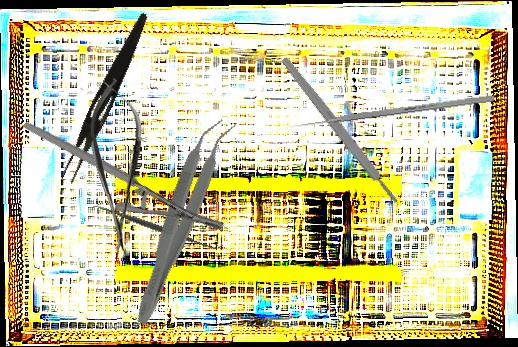Dressing Forceps: (59, 8, 152, 187)
Micro Scissor: (88, 76, 145, 255)
Needle Holder: (21, 69, 227, 281)
Pusher: (285, 94, 495, 131)
Scalpel Handle: (279, 55, 401, 206)
Spatula Surgical: (90, 197, 224, 258)
Tissue Forceps: (127, 112, 238, 331)
